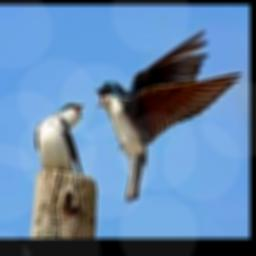Swallow: (95, 30, 241, 204), (34, 102, 83, 175)
